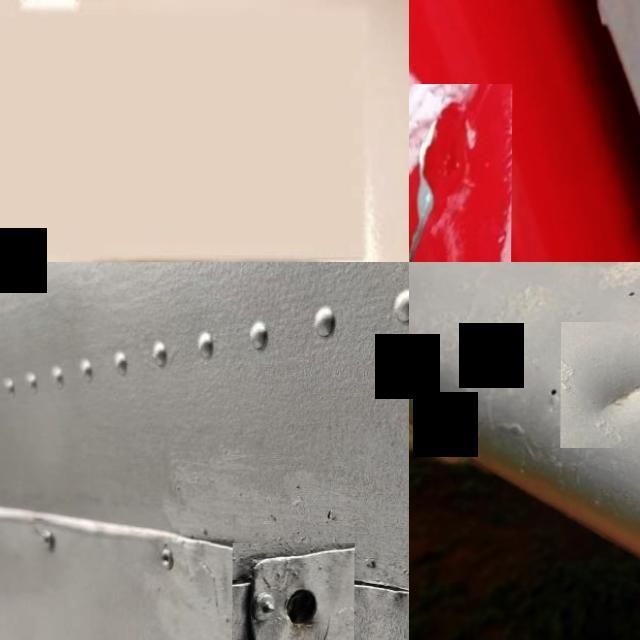Crack: (409, 84, 512, 262)
Dent: (560, 322, 640, 448)
Missing_Fastener: (232, 543, 355, 640)
